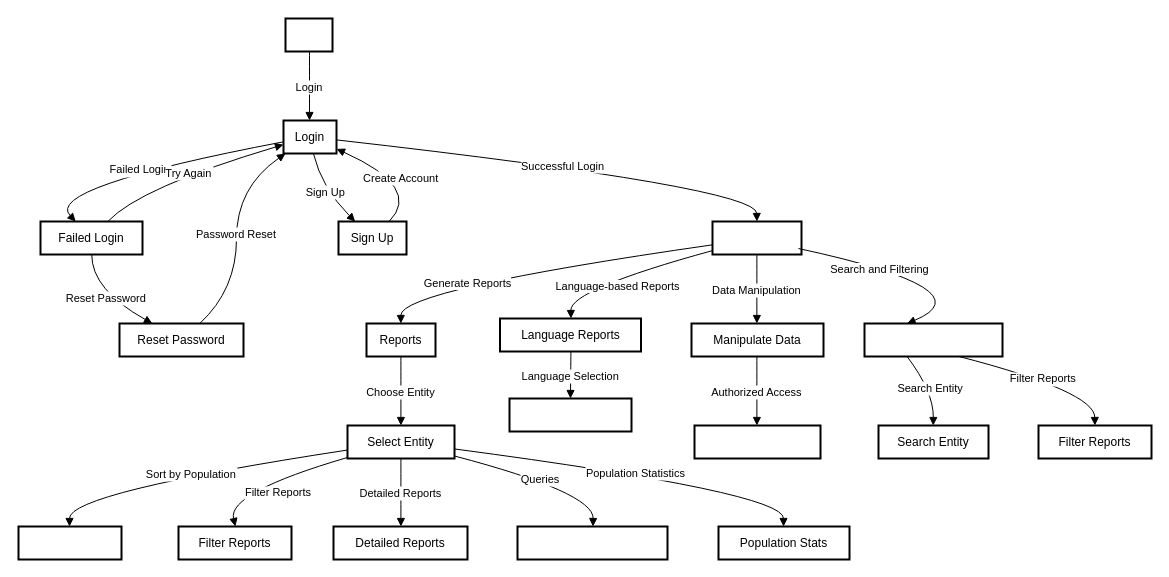
Some shapes in this 1169 by 577 pixel diagram are drawn without their labels. Each missing label, with the centre of its shape:
Access Granted: (x=757, y=441)
Dashboard: (x=756, y=237)
Language Stats: (x=570, y=414)
Population Queries: (x=592, y=542)
Search and Filter: (x=933, y=339)
Sort Reports: (x=69, y=542)
User: (x=308, y=34)
